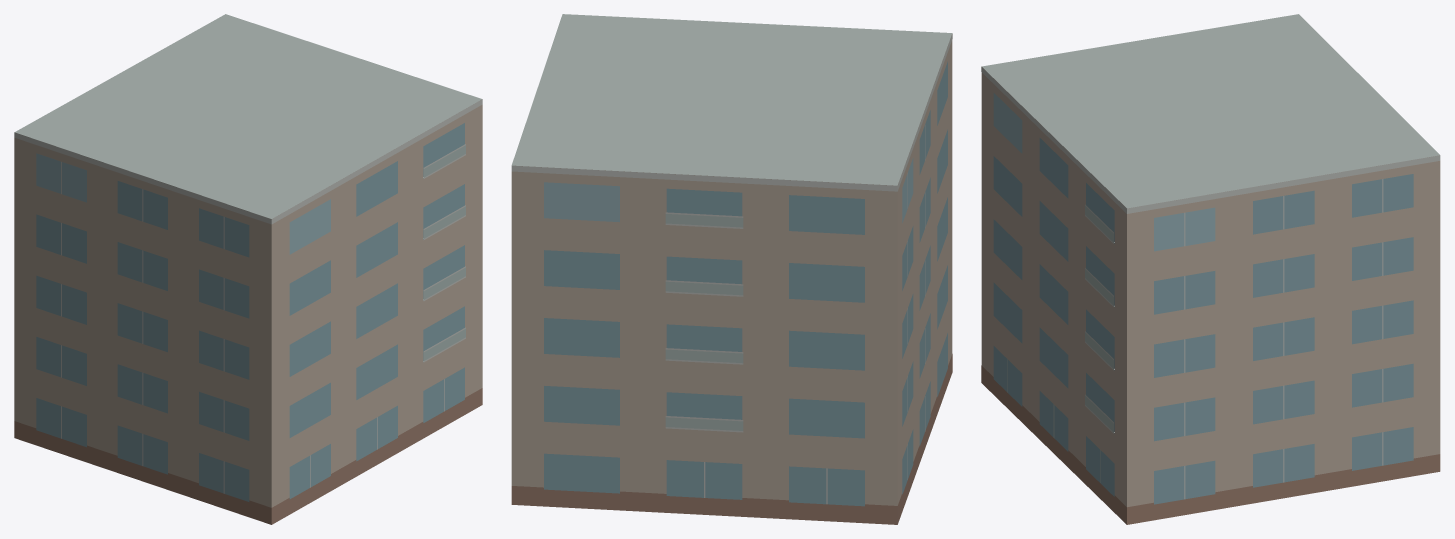
File: survey-upis-32945420.glb
3 views of the same model, side by side, from view 1: azimuth 30°, elevation 25°; view 2: azimuth 150°, elevation 25°; view 3: azimuth 270°, elevation 25° (orthographic). The views are drawn at different scales.
Visible parts, largest first — view 1: survey-upis-32945420.tmp; view 2: survey-upis-32945420.tmp; view 3: survey-upis-32945420.tmp.
Part boxes in pixels (bbox=[...]): survey-upis-32945420.tmp: bbox=[14, 14, 482, 524]; survey-upis-32945420.tmp: bbox=[511, 14, 952, 524]; survey-upis-32945420.tmp: bbox=[981, 14, 1440, 524].
Size of the model in its own units: 18.33 by 13.9 by 18.28.
